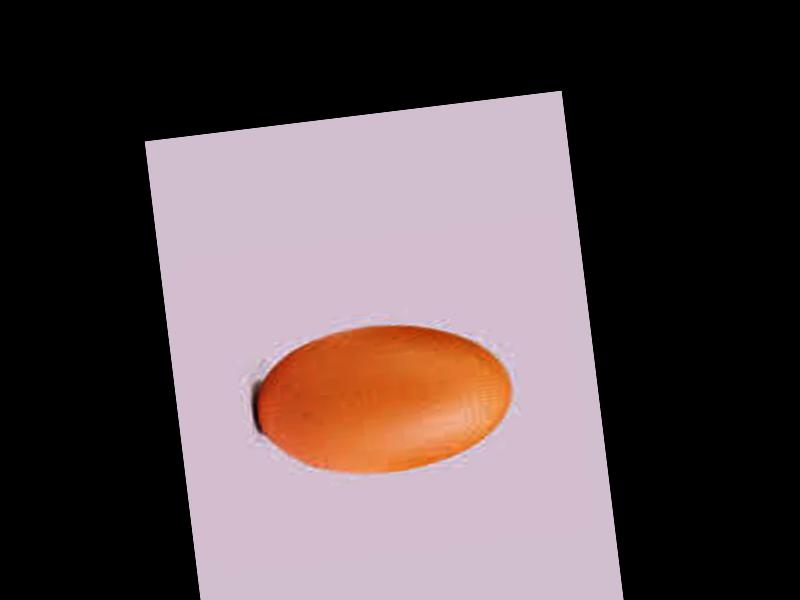Eggs: (246, 311, 523, 485)
